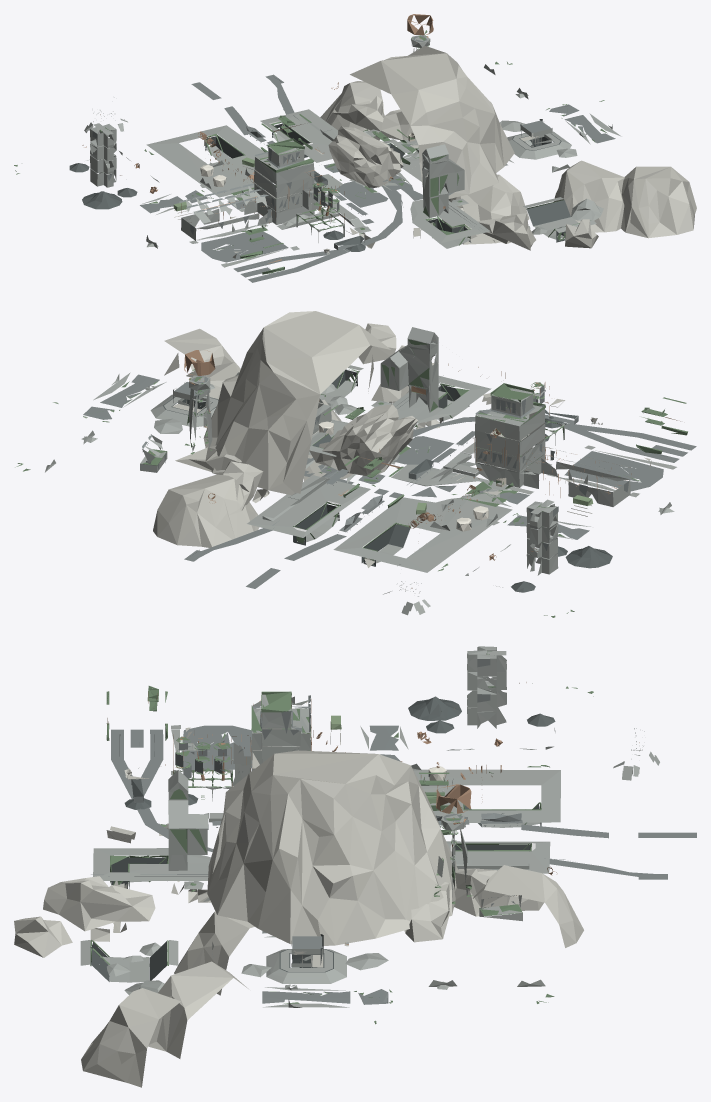
The model's file is trainyard_1.glb.
3 views of the same model, one above another, from view 1: azimuth 30°, elevation 25°; view 2: azimuth 150°, elevation 25°; view 3: azimuth 270°, elevation 25° (orthographic). The views are drawn at different scales.
Parts seen in each view (by area): view 1: shipping_container_900_a_LOD0, brick_pile_1x6_LOD0, road_36x15_LOD0, sewer_drainwall_corner_1200x1200_LOD0, pipeline_100x300_LOD0; view 2: shipping_container_900_a_LOD0, brick_pile_1x6_LOD0, road_36x15_LOD0, sewer_drainwall_corner_1200x1200_LOD0, pipeline_100x300_LOD0, liquid_gas_tank_600_LOD0; view 3: shipping_container_900_a_LOD0, brick_pile_1x6_LOD0, road_36x15_LOD0, sewer_drainwall_corner_1200x1200_LOD0, pipeline_100x300_LOD0.
Part boxes in pixels (<box>): shipping_container_900_a_LOD0: <box>93,46,696,258</box>; brick_pile_1x6_LOD0: <box>84,35,621,267</box>; road_36x15_LOD0: <box>14,30,615,282</box>; sewer_drainwall_corner_1200x1200_LOD0: <box>69,119,570,251</box>; pipeline_100x300_LOD0: <box>82,14,445,263</box>; shipping_container_900_a_LOD0: <box>153,311,662,592</box>; brick_pile_1x6_LOD0: <box>45,327,676,615</box>; road_36x15_LOD0: <box>15,339,696,617</box>; sewer_drainwall_corner_1200x1200_LOD0: <box>163,369,612,592</box>; pipeline_100x300_LOD0: <box>150,350,680,588</box>; liquid_gas_tank_600_LOD0: <box>318,421,488,531</box>; shipping_container_900_a_LOD0: <box>14,688,654,1087</box>; brick_pile_1x6_LOD0: <box>80,646,659,1007</box>; road_36x15_LOD0: <box>90,651,696,1024</box>; sewer_drainwall_corner_1200x1200_LOD0: <box>90,696,555,981</box>; pipeline_100x300_LOD0: <box>107,682,639,944</box>.
Bounding box in the file's own units: 248 × 66.08 × 210.
